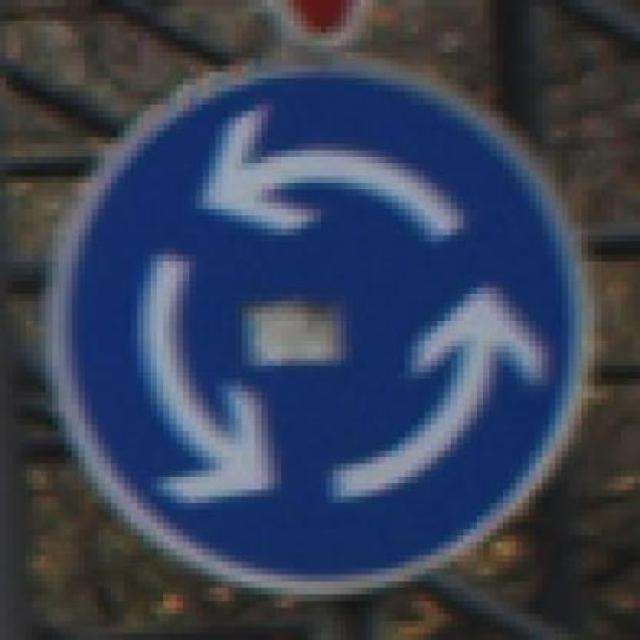Round-About: (13, 46, 621, 620)
